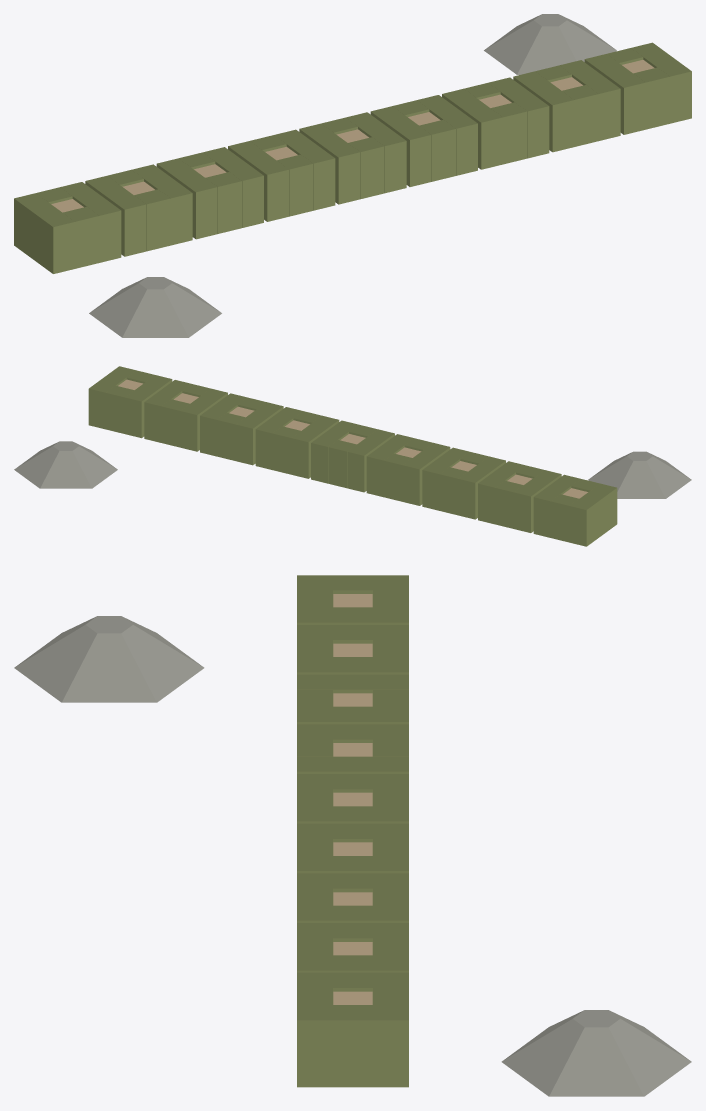
The model's file is SM_ObraReconstruccion_v2_10m_LOD1.fbx.
3 renders of one model, top to bottom at view 1: azimuth 30°, elevation 25°; view 2: azimuth 150°, elevation 25°; view 3: azimuth 270°, elevation 25°, orthographic. The views are drawn at different scales.
Visible parts, largest first — view 1: SM_obra_curso_v45_LOD1; view 2: SM_obra_curso_v45_LOD1; view 3: SM_obra_curso_v45_LOD1.
Part boxes in pixels (x1,y1,x2,y2): SM_obra_curso_v45_LOD1: (14,14,691,337); SM_obra_curso_v45_LOD1: (14,366,691,546); SM_obra_curso_v45_LOD1: (14,575,691,1096).
Bounding box in the file's own units: 10.36 × 0.7 × 6.4.
